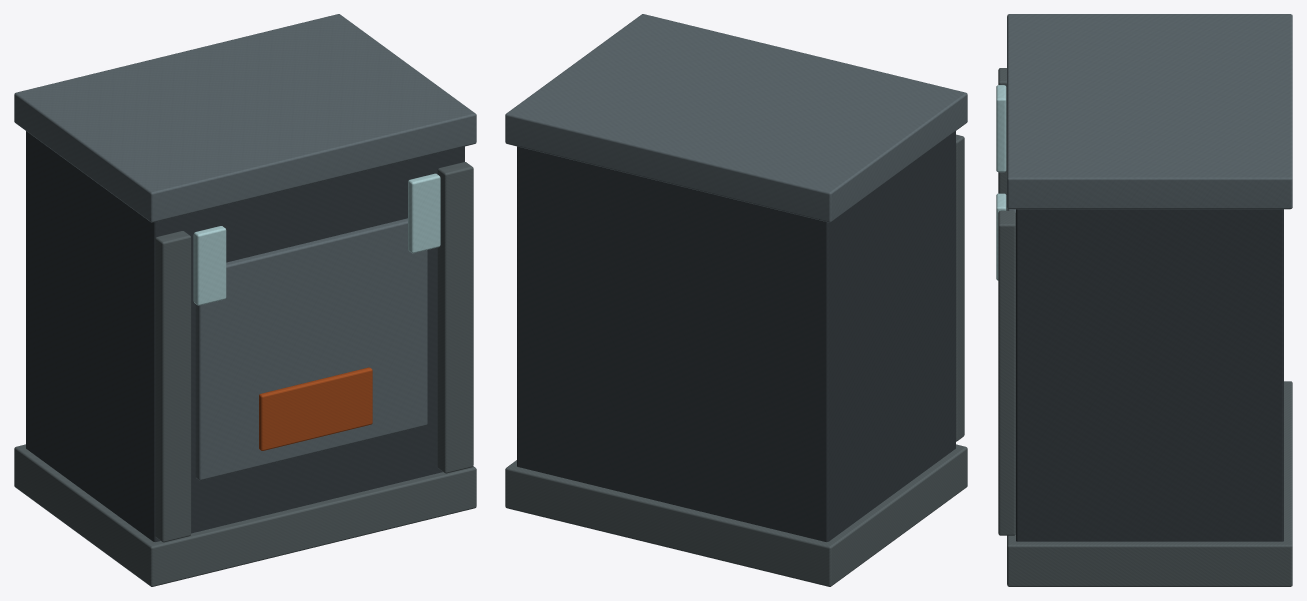
File: HeavyContainmentCrate.fbx
3 renders of one model, left to right at view 1: azimuth 30°, elevation 25°; view 2: azimuth 150°, elevation 25°; view 3: azimuth 270°, elevation 25°, orthographic. The views are drawn at different scales.
Visible parts, largest first — view 1: HeavyContainmentCrate_Mesh; view 2: HeavyContainmentCrate_Mesh; view 3: HeavyContainmentCrate_Mesh.
Part boxes in pixels (left/top/right/bottom): HeavyContainmentCrate_Mesh: left=14, top=14, right=476, bottom=586; HeavyContainmentCrate_Mesh: left=505, top=14, right=967, bottom=586; HeavyContainmentCrate_Mesh: left=996, top=14, right=1292, bottom=586.
Bounding box in the file's own units: 134 × 155 × 102.
